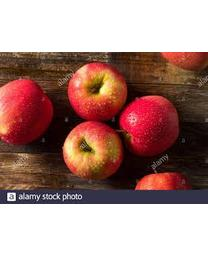apple: (118, 94, 179, 157), (62, 120, 124, 179), (67, 62, 127, 121), (0, 78, 53, 144)
